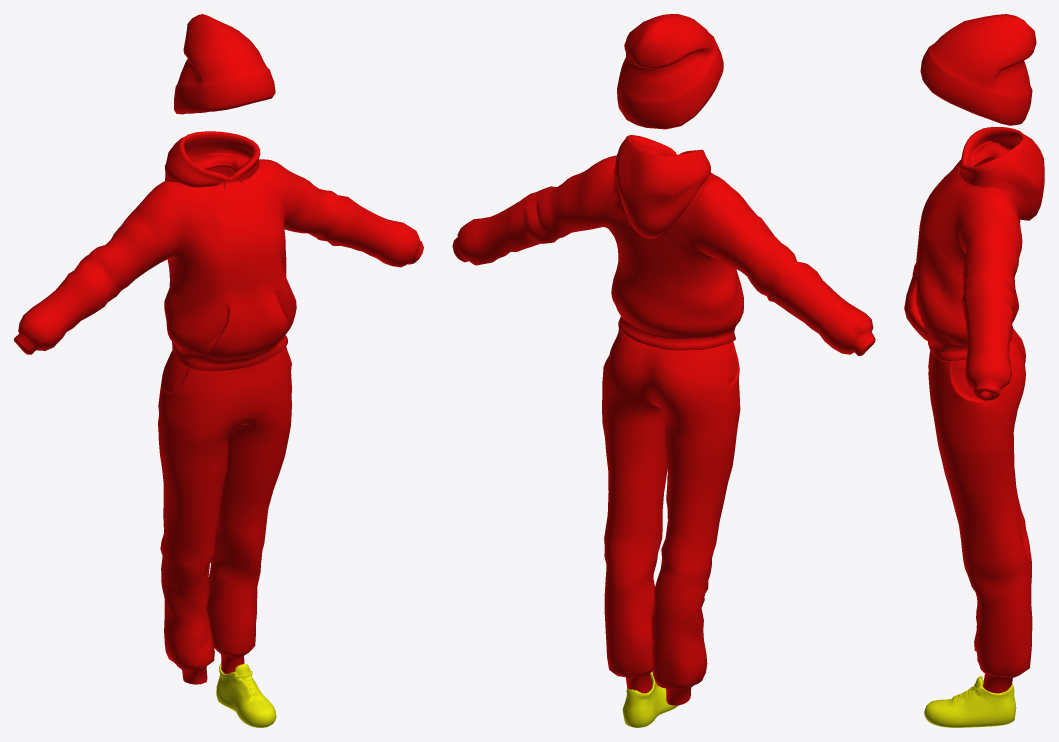
File: Girl_LP.fbx
3 renders of one model, left to right at view 1: azimuth 30°, elevation 25°; view 2: azimuth 150°, elevation 25°; view 3: azimuth 270°, elevation 25°, orthographic. The views are drawn at different scales.
Visible parts, largest first — view 1: Cloth_LP, Sneakers_LP; view 2: Cloth_LP, Sneakers_LP; view 3: Cloth_LP, Sneakers_LP.
Boxes of the visible parts, box(x1,y1,x2,y2) form: Cloth_LP: box(14, 14, 423, 684); Sneakers_LP: box(216, 663, 276, 727); Cloth_LP: box(452, 14, 875, 705); Sneakers_LP: box(622, 672, 678, 727); Cloth_LP: box(904, 14, 1044, 693); Sneakers_LP: box(924, 676, 1016, 727).
Size of the model in its own units: 107 by 174 by 31.96.
